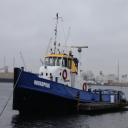tugboat: (13, 46, 128, 117)
